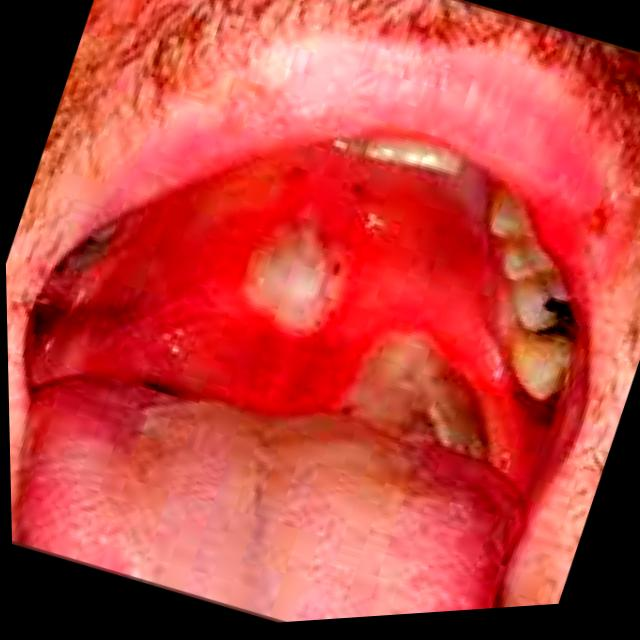ulcer: (245, 220, 345, 333)
